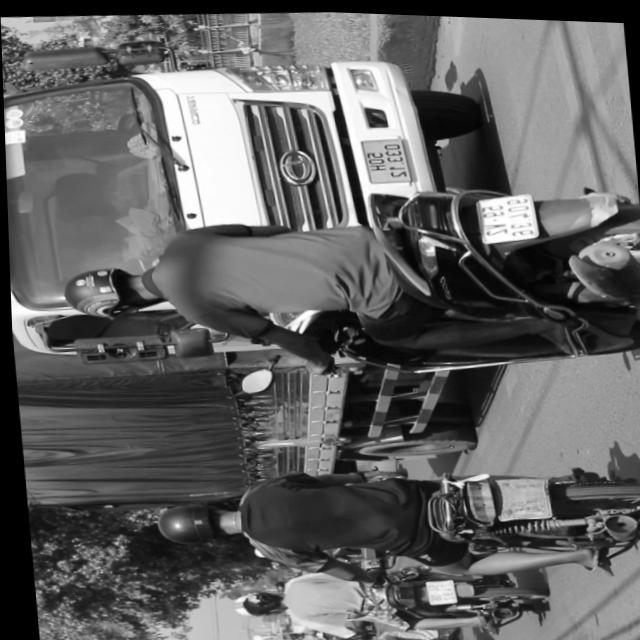helmet: (56, 259, 161, 321), (149, 493, 236, 547)
licenseplate: (48, 154, 640, 399), (141, 430, 640, 603), (223, 547, 546, 640), (259, 620, 489, 640)
motorcyclist: (234, 586, 289, 616)
nohelmet: (477, 188, 534, 238), (493, 470, 545, 514), (419, 574, 452, 601)
